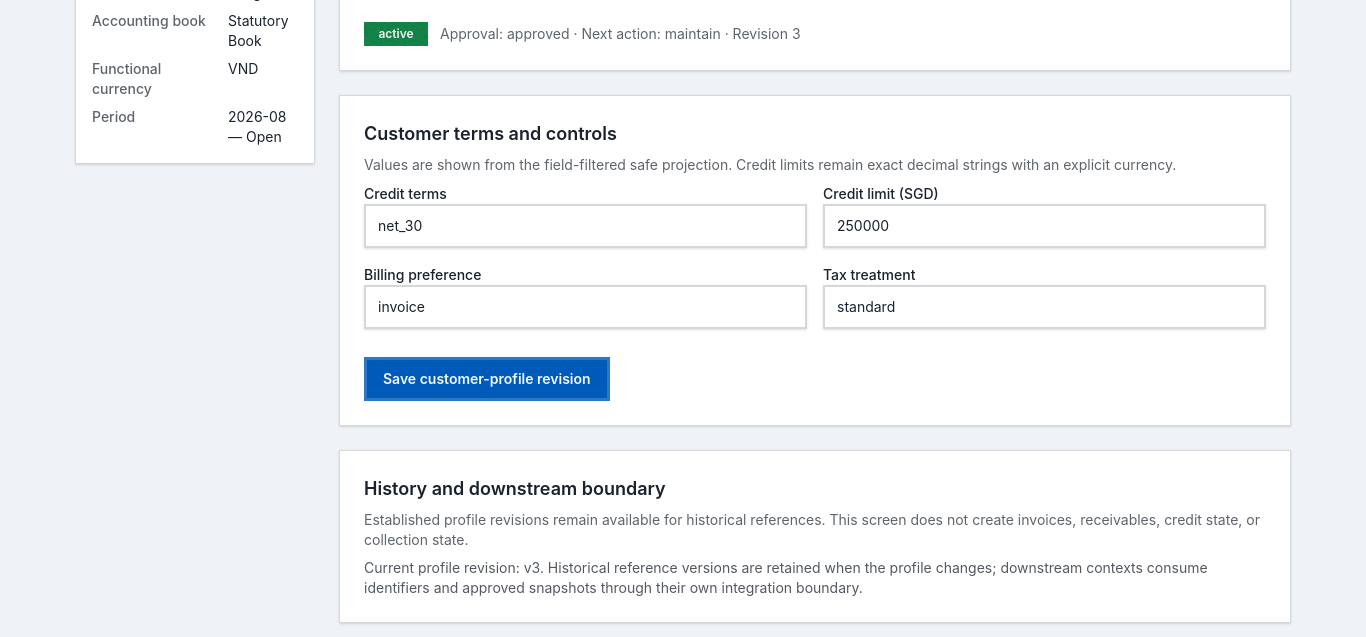
Test case: application router › supports the customer-profile maintenance screen with Party and profile versions
(page scrolled)
expect the field showing "250000" is shown: met, box [823, 204, 1266, 248]
Click the button "Save customer-profile revision" at [487, 379], box [364, 357, 610, 401]
(page scrolled)
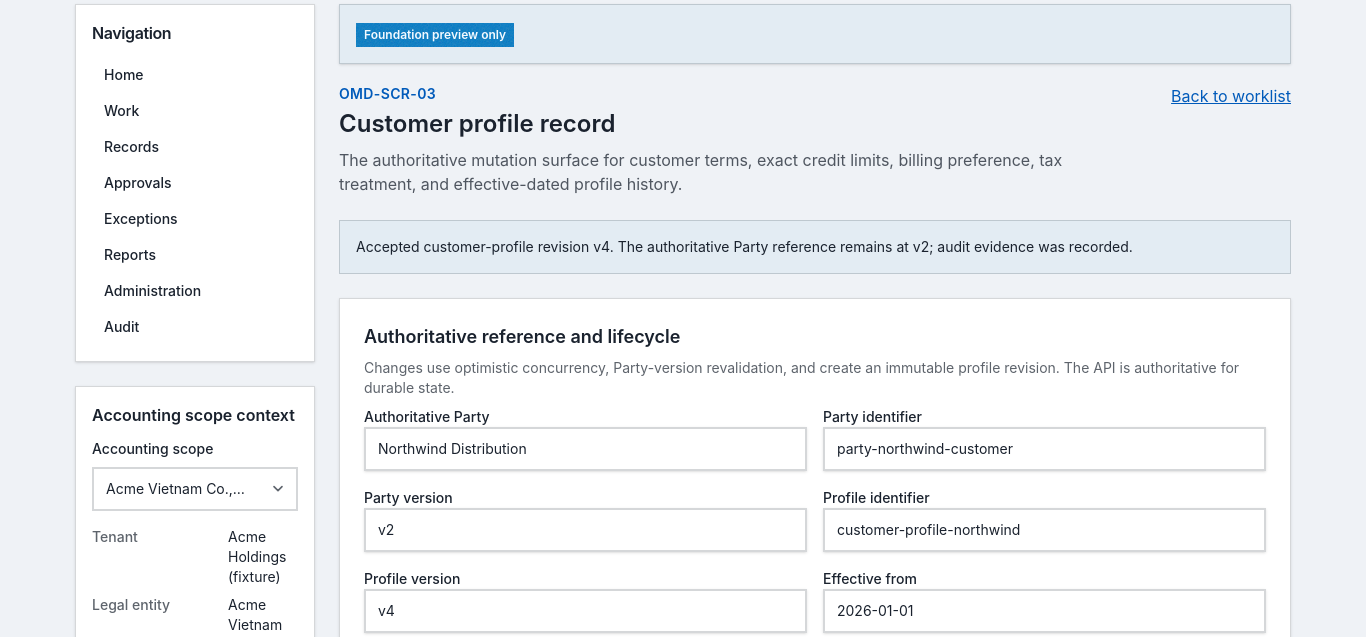
expect the text "Accepted customer-profile revision v4" is shown: met, box [356, 238, 1133, 255]
